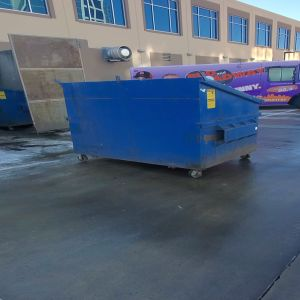Dumpster: (61, 82, 264, 182)
